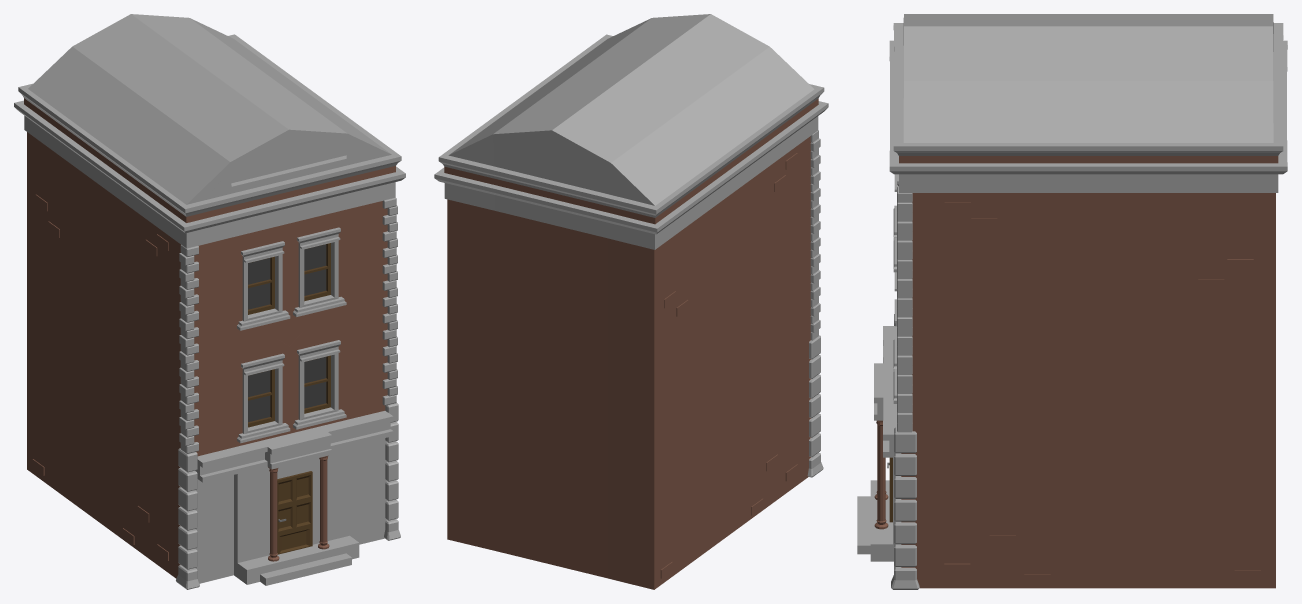
Rendered from Building3_Small.glb.
3 renders of one model, left to right at view 1: azimuth 30°, elevation 25°; view 2: azimuth 150°, elevation 25°; view 3: azimuth 270°, elevation 25°, orthographic. The views are drawn at different scales.
Parts seen in each view (by area): view 1: Building3_Small; view 2: Building3_Small; view 3: Building3_Small.
Part boxes in pixels (x1=…): Building3_Small: x1=14, y1=14, x2=405, y2=589; Building3_Small: x1=434, y1=14, x2=828, y2=589; Building3_Small: x1=857, y1=14, x2=1287, y2=589.
Bounding box in the file's own units: 3.05 × 5.68 × 4.4.
